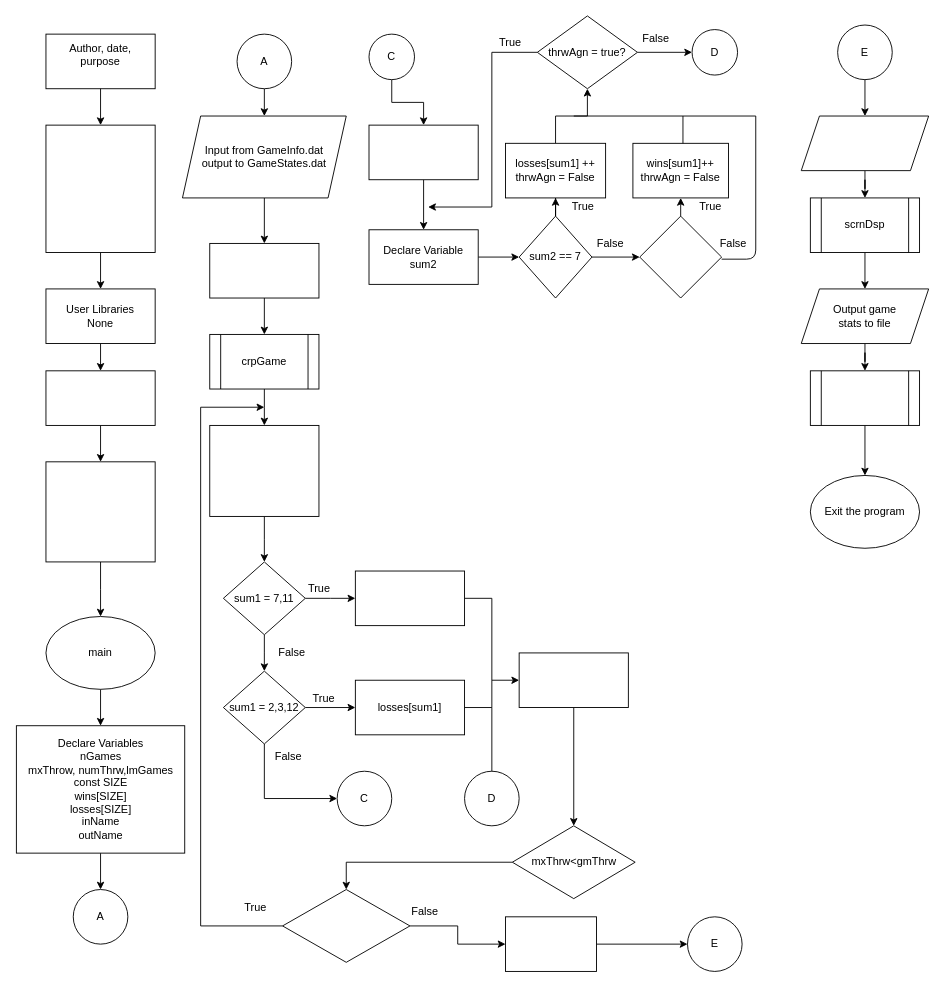
Image size: 945x987. Some labels were removed from this diagram. The shapes that lost their labels are listed below. From the top down, each one's centre as x and y in pixels, then its label:
At (x=423, y=152): "Declare out of loop thrwAgn = True".
At (x=864, y=143): "Output game stats to screen".
At (x=100, y=188): "System Libraries I/O Time cstdlib File stream I/o manipulation String Math".
At (x=264, y=270): "Declare Variable beg".
At (x=680, y=256): "sum2 == sum1".
At (x=100, y=397): "Global Constants PERCENT = 100.0f".
At (x=864, y=397): "fileDsp".
At (x=264, y=470): "Decalre and Initilize out of loop gmThrw sum1".
At (x=100, y=511): "Function Prototypes rollDie filesDsp scrnDsp crpGame".
At (x=409, y=598): "wins[sum1]".
At (x=573, y=680): "numThrw+=gmThrw".
At (x=346, y=925): "game <=nGames".
At (x=551, y=943): "Declare Variable end".
